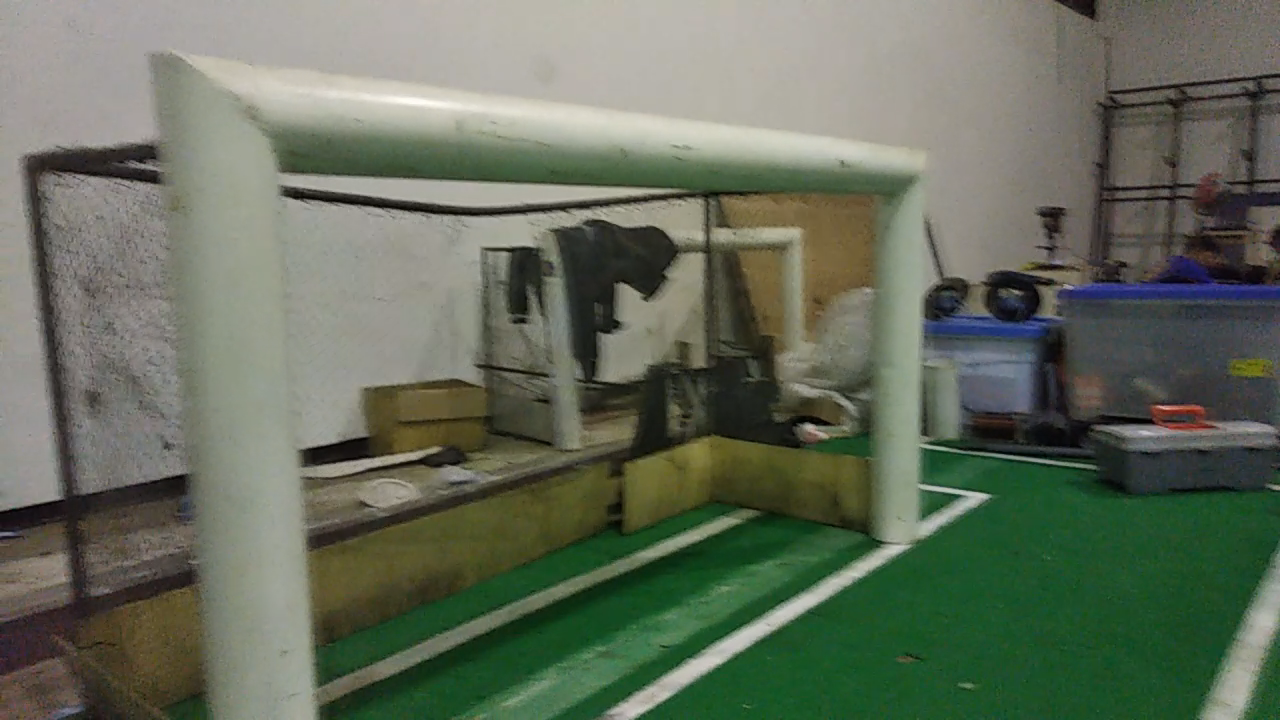gawang: (119, 35, 948, 717)
